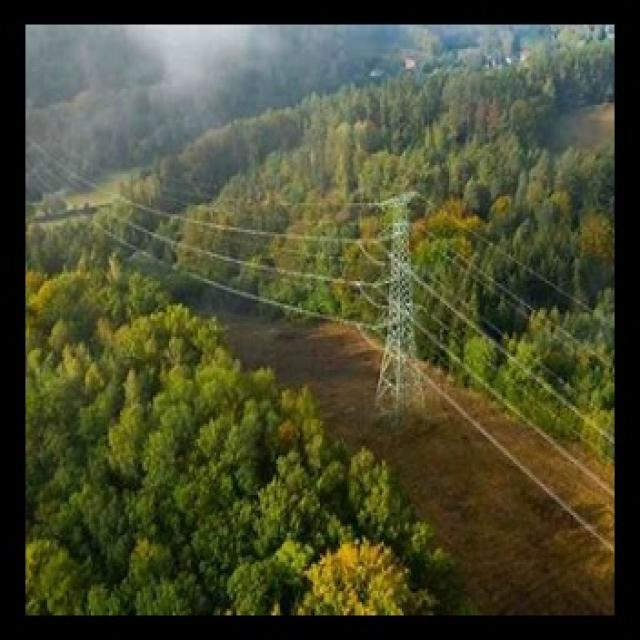utility poles: (344, 174, 471, 440)
